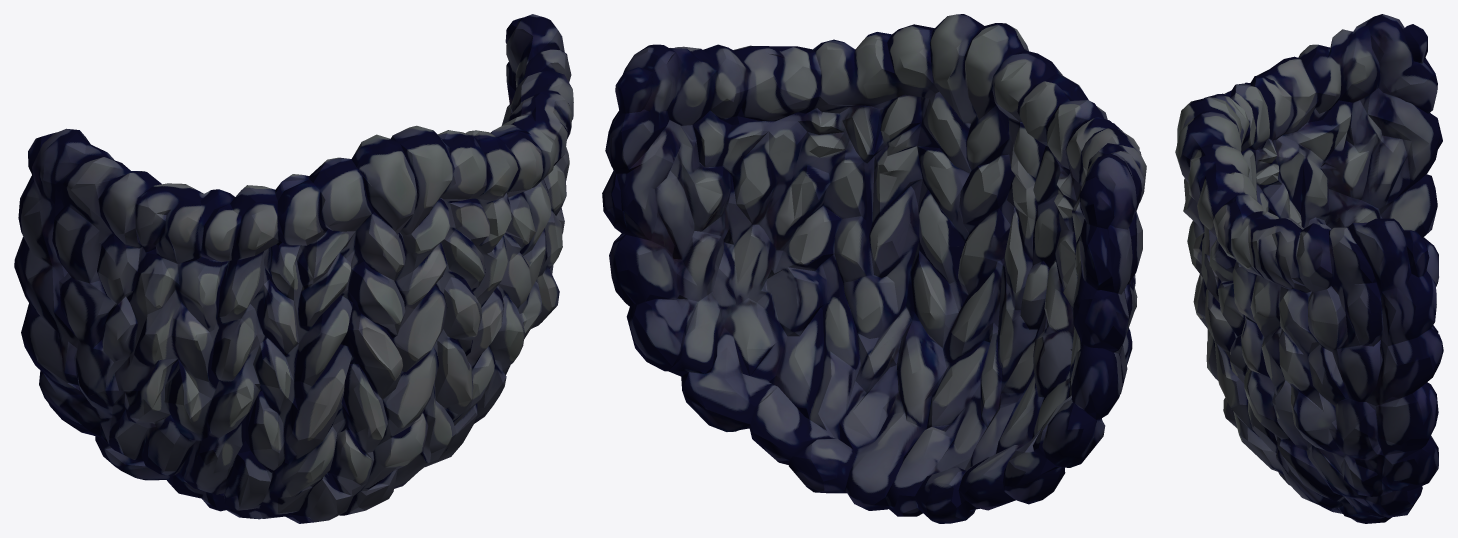
The model's file is nerith_m-masque-6-laine-cotelee.glb.
The picture shows the model from 3 angles, left to right: view 1: azimuth 30°, elevation 25°; view 2: azimuth 150°, elevation 25°; view 3: azimuth 270°, elevation 25°; orthographic projection. The views are drawn at different scales.
Visible parts, largest first — view 1: geometry_0; view 2: geometry_0; view 3: geometry_0.
Boxes of the visible parts, x1=… form: geometry_0: x1=14, y1=14, x2=573, y2=523; geometry_0: x1=602, y1=14, x2=1146, y2=523; geometry_0: x1=1175, y1=14, x2=1443, y2=523.
Size of the model in its own units: 1.9 by 1.51 by 0.9296.
Materials: 1 (1 with a texture image).
